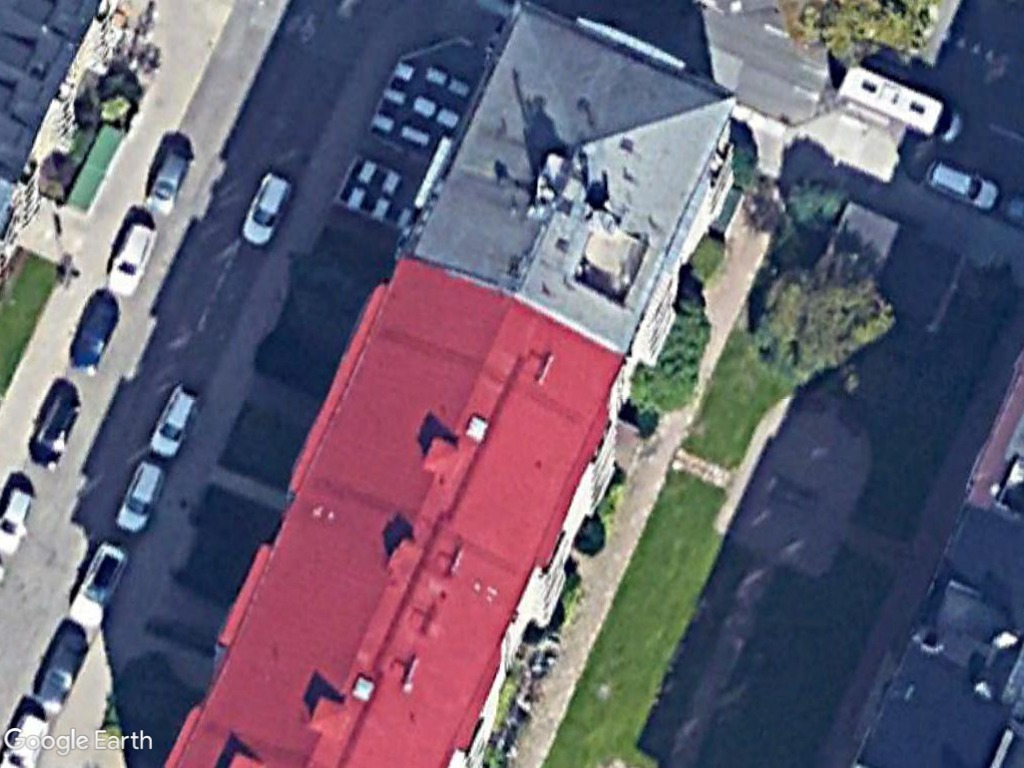car: (30, 616, 94, 716), (236, 159, 298, 252), (24, 384, 84, 474), (919, 156, 1008, 214), (111, 449, 169, 538), (144, 376, 206, 459), (65, 289, 121, 376), (100, 214, 159, 296), (140, 143, 197, 222)
van: (833, 58, 969, 146)
